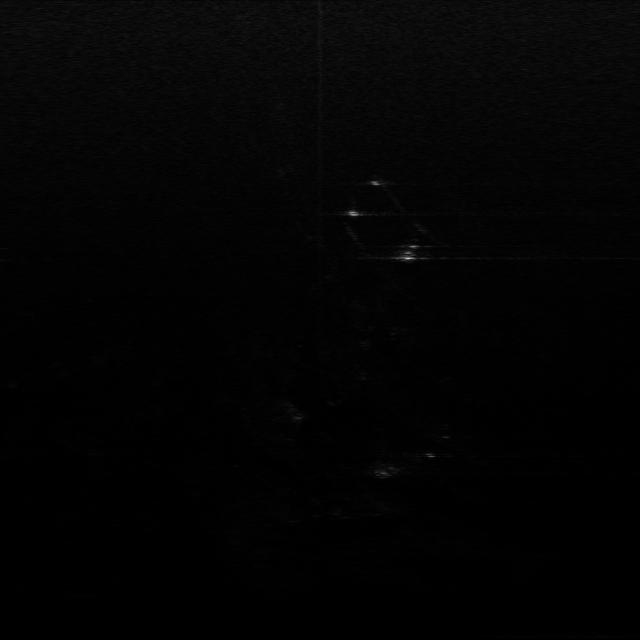rov: (396, 243, 424, 265)
